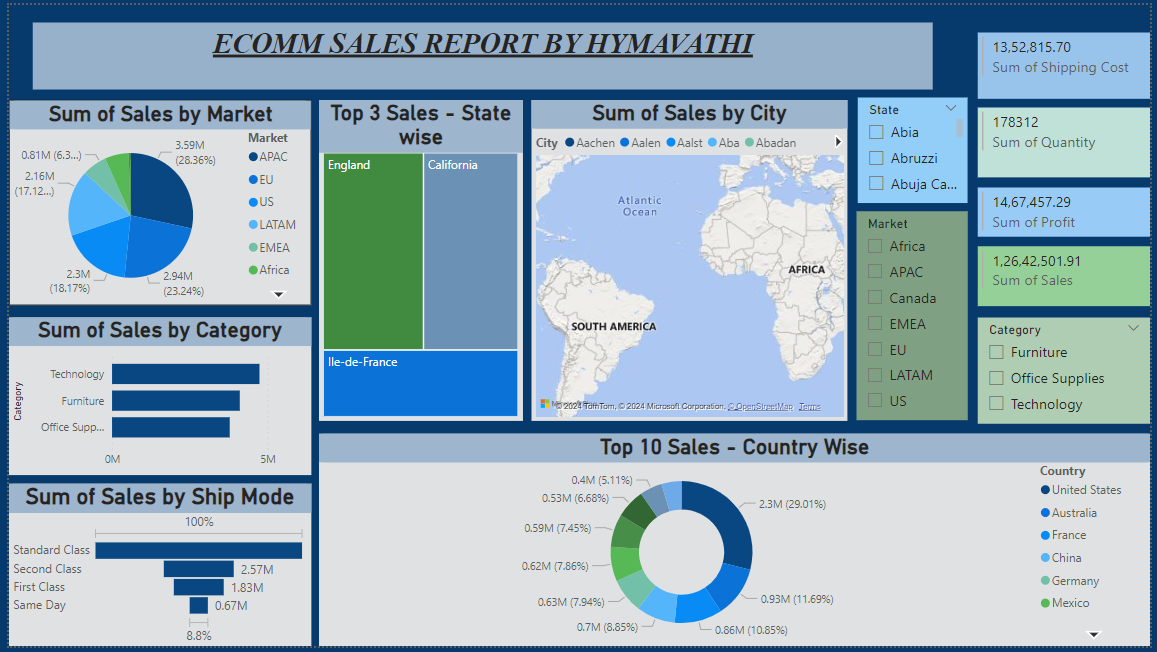

Layout of this report page (visuals, bound fields, positions):
{"tool":"powerbi","page":{"name":"Page 1","canvas":[1280,720],"ordinal":0},"visuals":[{"type":"barChart","fields":{"Category":["Orders.Category"],"Y":["Sum(Orders.Sales)"]},"box":[0,349.9,338.9,177],"z":0},{"type":"pieChart","fields":{"Category":["Orders.Market"],"Y":["Sum(Orders.Sales)"]},"box":[0,107,338.9,230.5],"z":1000},{"type":"funnel","fields":{"Category":["Orders.Ship Mode"],"Y":["Sum(Orders.Sales)"]},"box":[0,536.5,338.9,183.9],"z":2000},{"type":"donutChart","title":"Top 10 Sales - Country Wise","fields":{"Category":["Orders.Country"],"Y":["Sum(Orders.Sales)"]},"box":[347.1,481.4,932.9,238.6],"z":3000},{"type":"treemap","title":"Top 3 Sales - State wise","fields":{"Group":["Orders.State"],"Values":["Sum(Orders.Sales)"]},"box":[347.8,106.6,228.6,360.4],"z":4000},{"type":"multiRowCard","fields":{"Values":["Sum(Orders.Profit)"]},"box":[1086.8,204.5,193.5,54.9],"z":5000},{"type":"multiRowCard","fields":{"Values":["Sum(Orders.Sales)"]},"box":[1086.8,270.3,193.5,67.2],"z":6000},{"type":"multiRowCard","fields":{"Values":["Sum(Orders.Quantity)"]},"box":[1086.8,115.3,193.5,78.2],"z":7000},{"type":"multiRowCard","fields":{"Values":["Sum(Orders.Shipping Cost)"]},"box":[1086.8,30.2,193.5,74.1],"z":8000},{"type":"slicer","fields":{"Values":["Orders.Category"]},"box":[1086.8,349.9,193.5,119.4],"z":9000},{"type":"slicer","fields":{"Values":["Orders.Market"]},"box":[950.9,231.9,124.9,234.6],"z":10000},{"type":"textbox","box":[26.1,19.2,1010,75.5],"z":11000},{"type":"slicer","fields":{"Values":["Orders.State"]},"box":[951.7,103.3,123.3,118.3],"z":12000},{"type":"filledMap","fields":{"Series":["Orders.City"]},"box":[586.2,106.6,354.8,360.4],"z":13000}]}

Visuals, with their boxes in screenshot pixels (x1, y1, x2, y2), scaled from the page's 1280x720 canvas onto the 1157x652 screenshot:
barChart - Orders.Category x Sum(Orders.Sales): 0:317:306:477
pieChart - Orders.Market x Sum(Orders.Sales): 0:97:306:306
funnel - Orders.Ship Mode x Sum(Orders.Sales): 0:486:306:651
"Top 10 Sales - Country Wise" donutChart: 314:436:1156:651
"Top 3 Sales - State wise" treemap: 314:97:521:423
multiRowCard - Sum(Orders.Profit): 982:185:1156:235
multiRowCard - Sum(Orders.Sales): 982:245:1156:306
multiRowCard - Sum(Orders.Quantity): 982:104:1156:175
multiRowCard - Sum(Orders.Shipping Cost): 982:27:1156:94
slicer - Orders.Category: 982:317:1156:425
slicer - Orders.Market: 860:210:972:422
textbox: 24:17:937:86
slicer - Orders.State: 860:94:972:201
filledMap - Orders.City: 530:97:851:423
